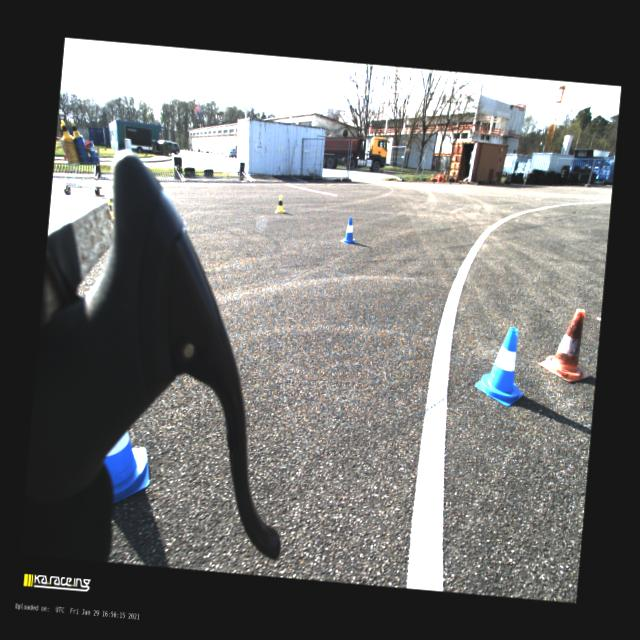blue_cone: (472, 324, 528, 408), (100, 429, 154, 506), (341, 216, 358, 244), (88, 140, 99, 156)
orange_cone: (536, 306, 594, 384)
yellow_cone: (103, 195, 116, 220), (274, 194, 286, 213), (69, 120, 82, 136), (60, 121, 73, 137)
